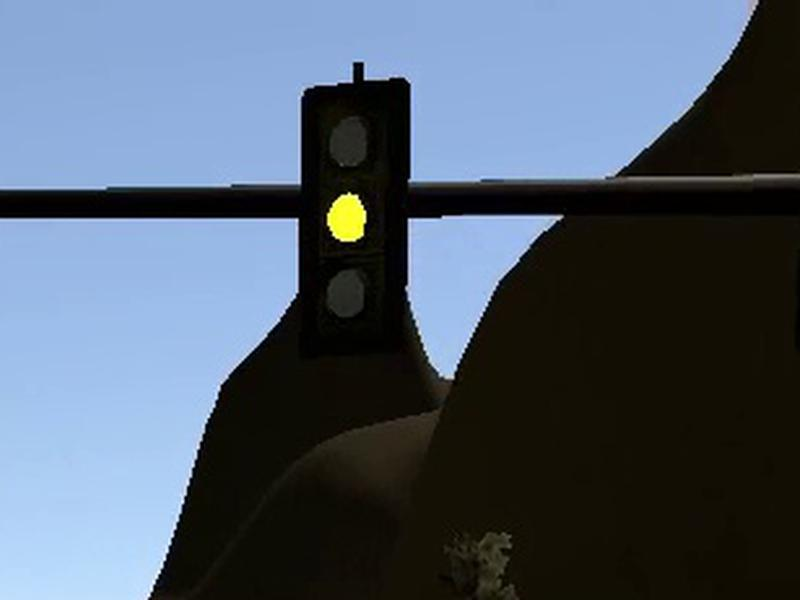Yellow: (299, 77, 410, 351)
